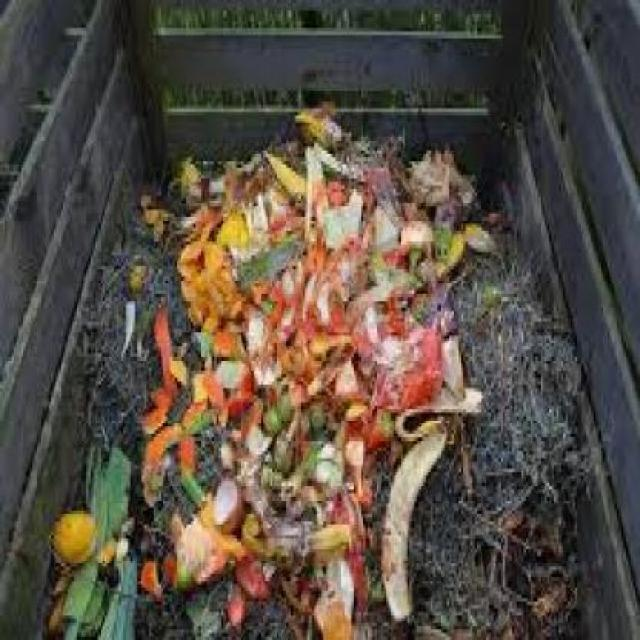garbage: (41, 63, 606, 637)
